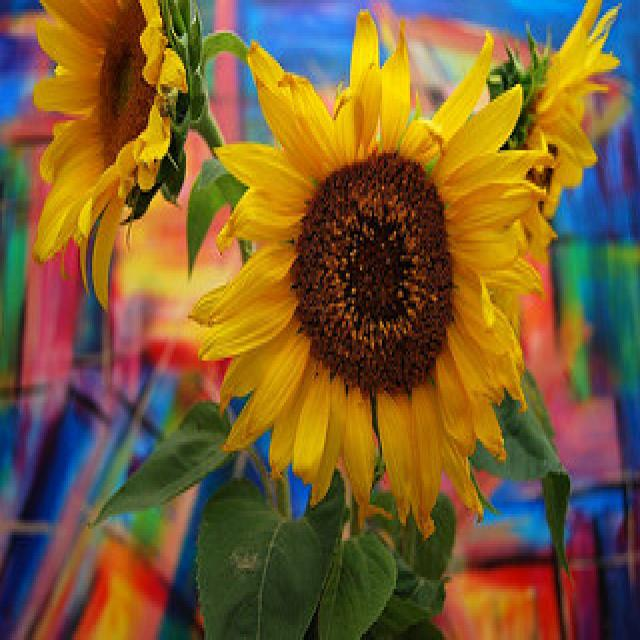sunflower: (180, 0, 548, 538), (23, 0, 207, 312)
